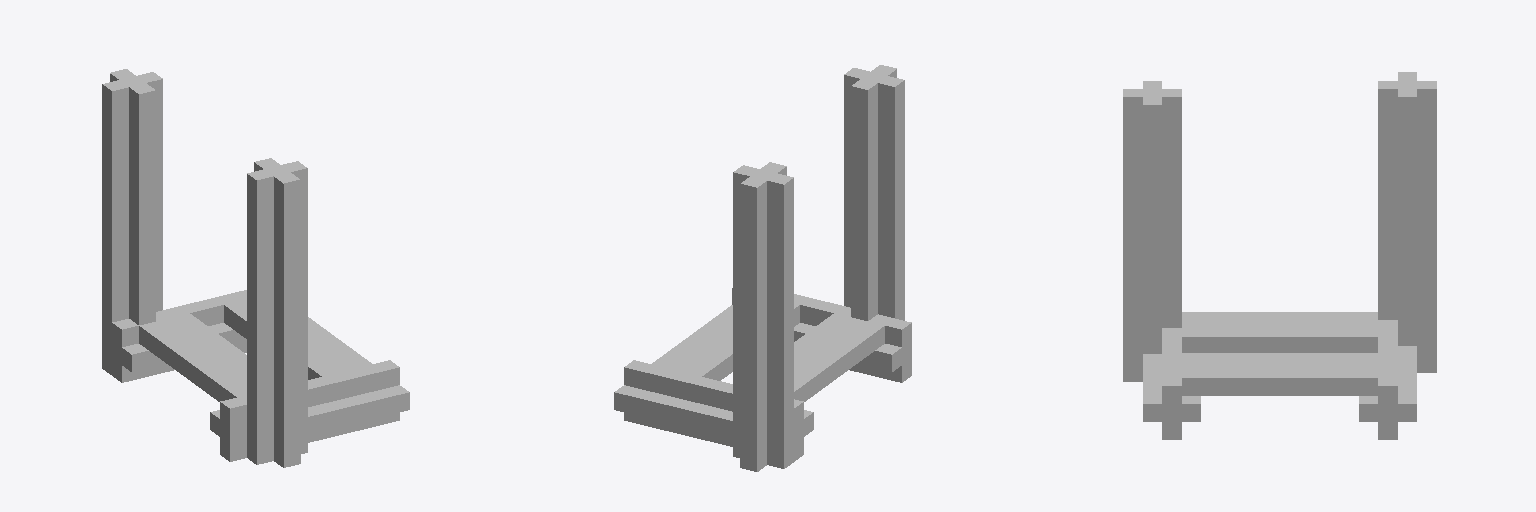
File: pole_scaffolding_end_floor.obj
3 views of the same model, side by side, from view 1: azimuth 30°, elevation 25°; view 2: azimuth 150°, elevation 25°; view 3: azimuth 270°, elevation 25° (orthographic).
Parts seen in each view (by area): view 1: node_0_0_0.004; view 2: node_0_0_0.004; view 3: node_0_0_0.004.
Part boxes in pixels (bbox=[...]): node_0_0_0.004: bbox=[102, 69, 409, 467]; node_0_0_0.004: bbox=[614, 65, 911, 471]; node_0_0_0.004: bbox=[1123, 72, 1436, 439].
Bounding box in the file's own units: 0.625 × 1 × 1.